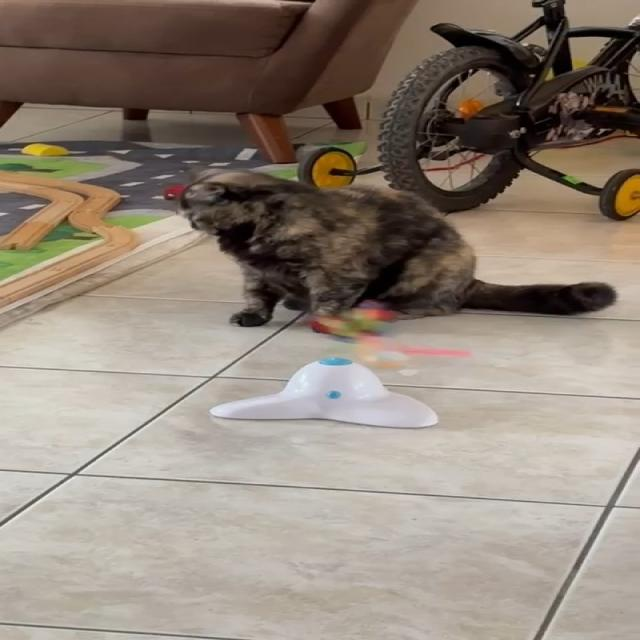authorized: (175, 165, 617, 333)
